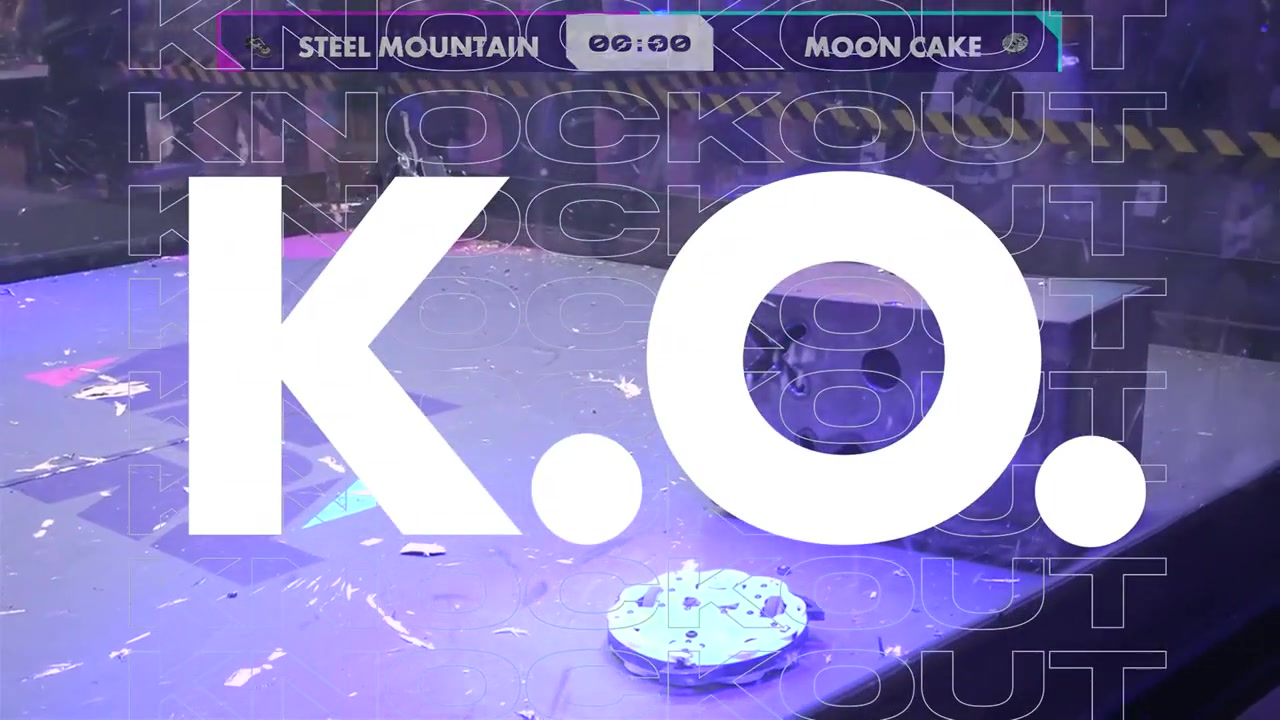combatbot: (608, 565, 825, 688)
housebot: (716, 261, 1149, 578)
